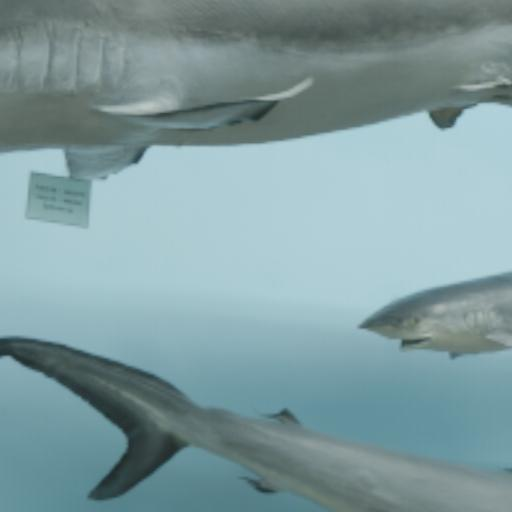nothing: (6, 9, 512, 512)
